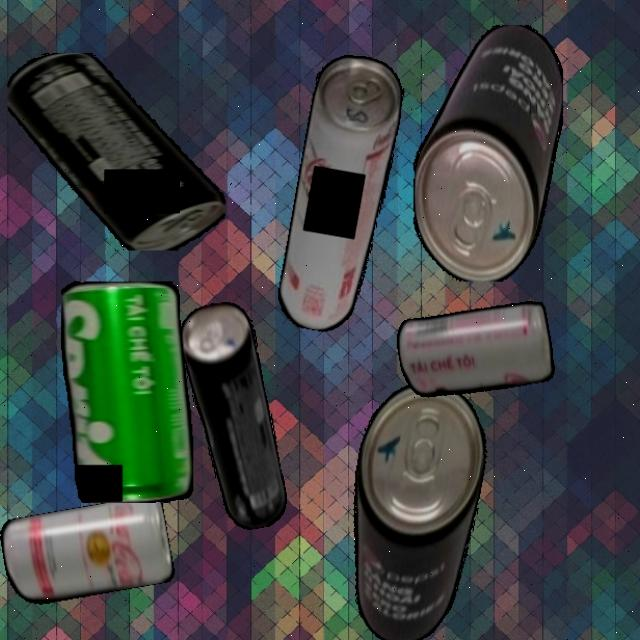debris: (328, 375, 498, 640), (8, 52, 226, 250), (274, 50, 409, 338), (413, 24, 563, 281), (62, 280, 194, 503), (175, 297, 291, 535), (0, 493, 176, 609), (394, 296, 557, 405)
